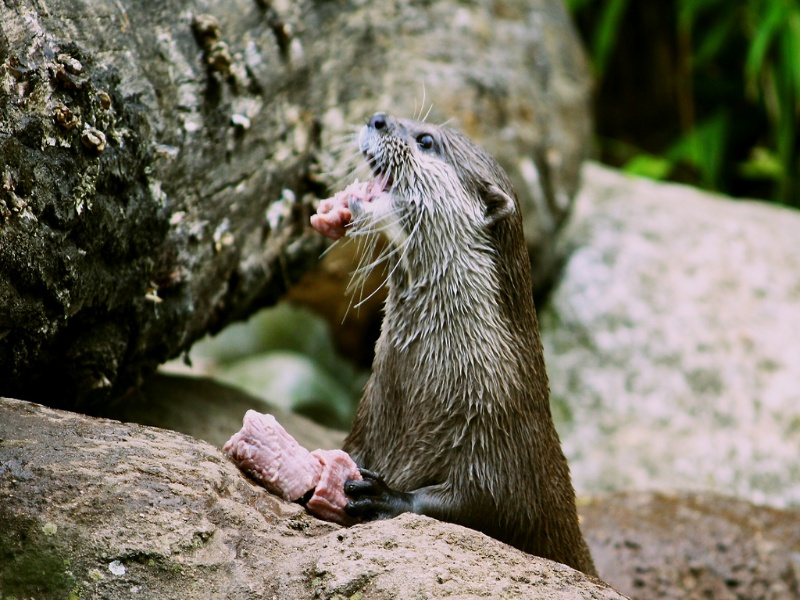minkish: (286, 112, 614, 585)
